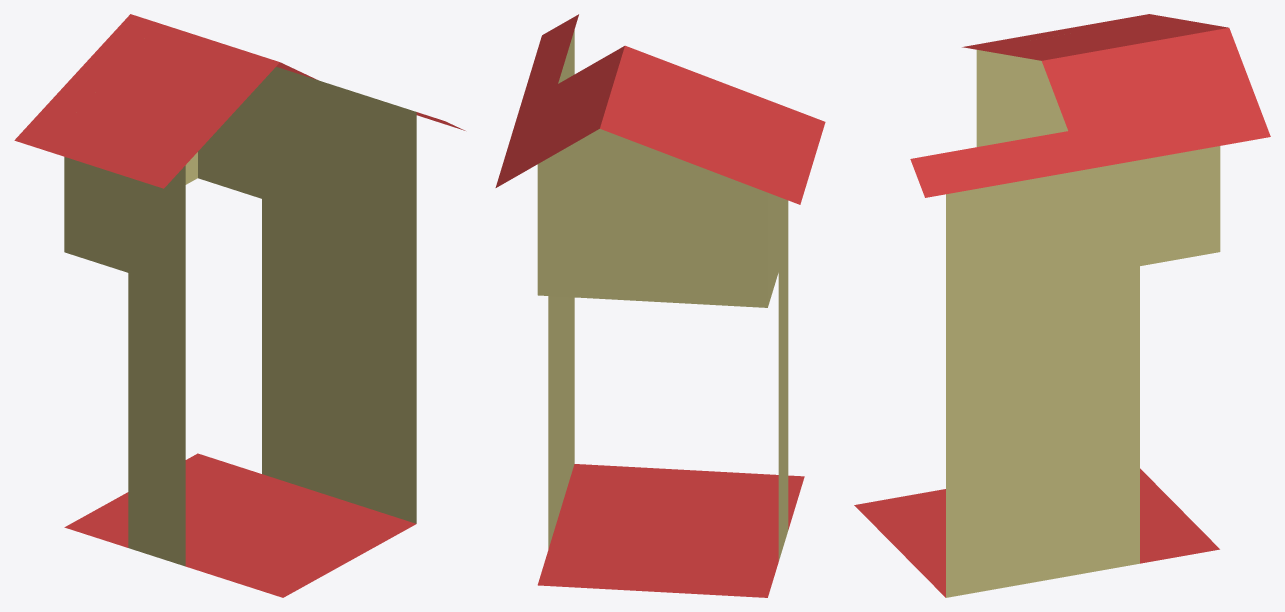
3 views of the same model, side by side, from view 1: azimuth 30°, elevation 25°; view 2: azimuth 150°, elevation 25°; view 3: azimuth 270°, elevation 25° (orthographic). The views are drawn at different scales.
Size of the model in its own units: 8.46 by 8.1 by 10.47.
